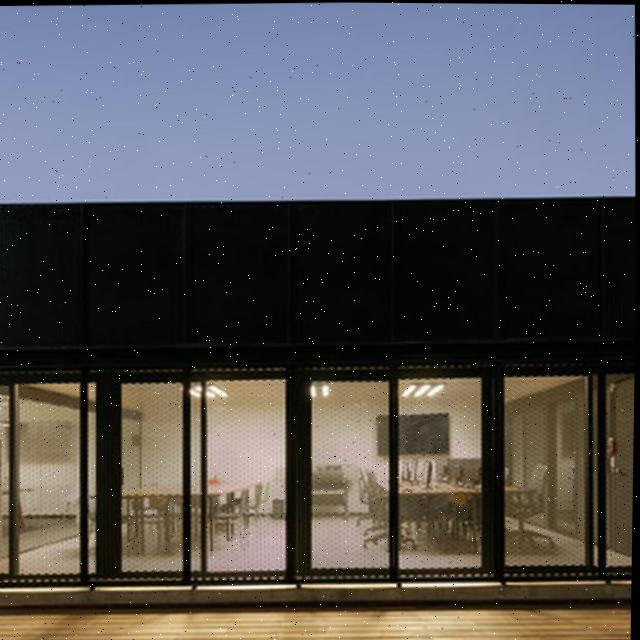building: (0, 191, 637, 612)
